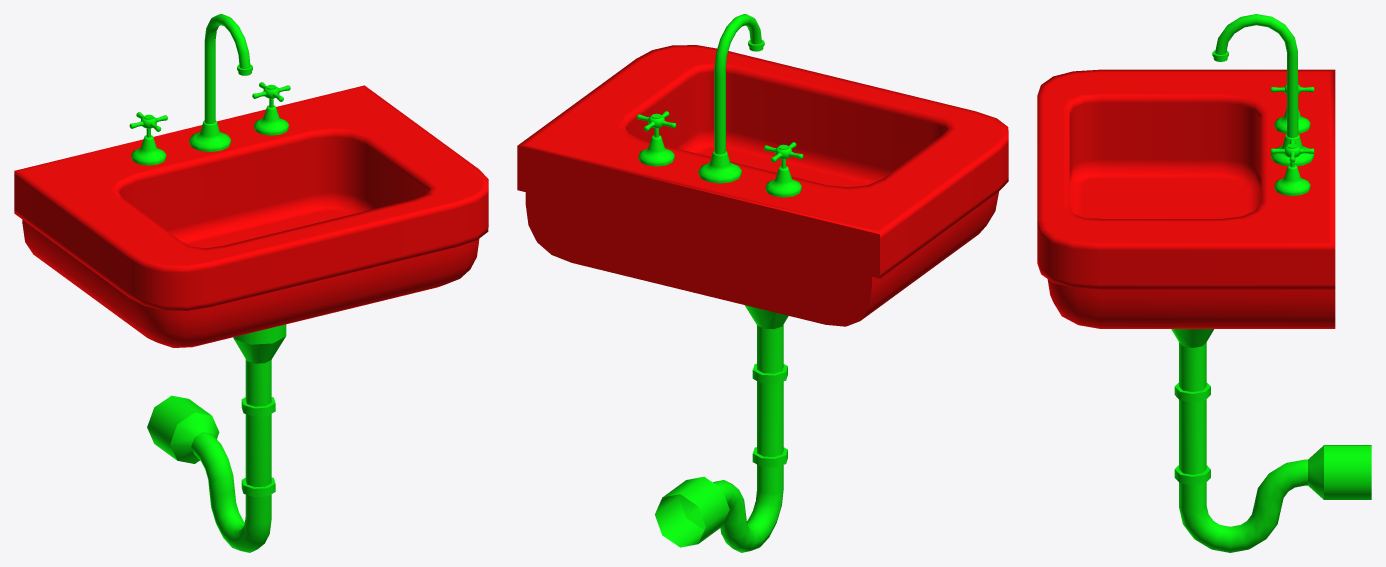
The model's file is Sink.FBX.
3 views of the same model, side by side, from view 1: azimuth 30°, elevation 25°; view 2: azimuth 150°, elevation 25°; view 3: azimuth 270°, elevation 25° (orthographic). The views are drawn at different scales.
Parts seen in each view (by area): view 1: Sink; view 2: Sink; view 3: Sink.
Part boxes in pixels (x1,y1,x2,y2): Sink: (14, 14, 488, 552); Sink: (517, 14, 1008, 552); Sink: (1037, 14, 1371, 552).
Size of the model in its own units: 30.89 by 44.09 by 24.83.
